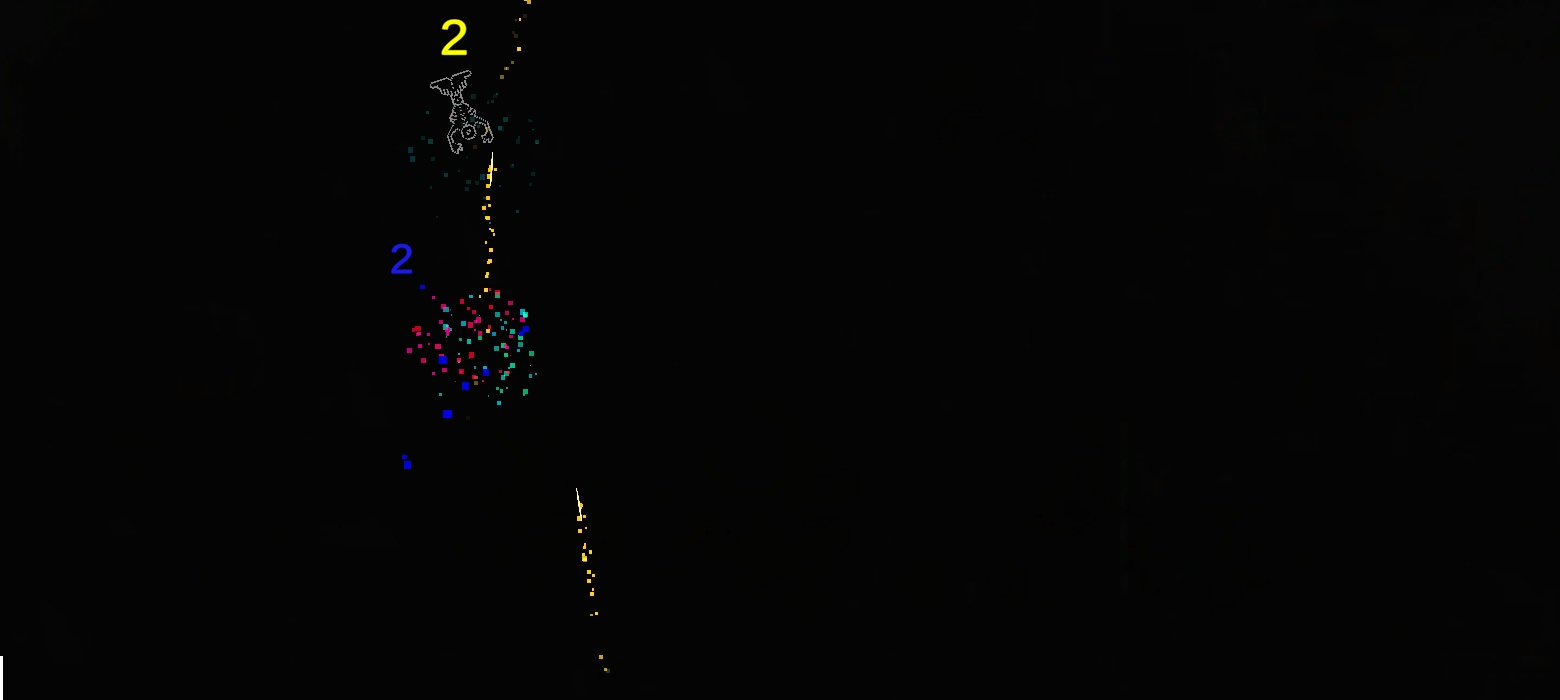enemy: (429, 70, 494, 154)
